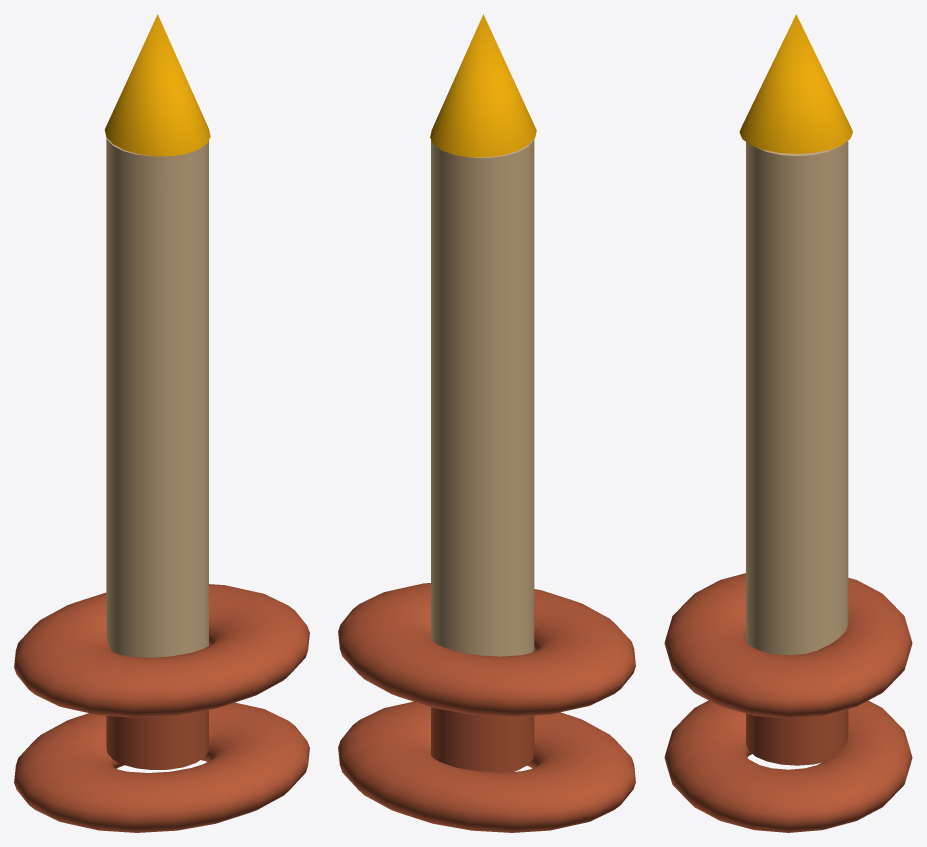
The model's file is Candle.fbx.
The picture shows the model from 3 angles, left to right: view 1: azimuth 30°, elevation 25°; view 2: azimuth 150°, elevation 25°; view 3: azimuth 270°, elevation 25°; orthographic projection.
Visible parts, largest first — view 1: candles; view 2: candles; view 3: candles.
Part boxes in pixels (bbox=[...]): candles: bbox=[14, 14, 309, 832]; candles: bbox=[338, 14, 635, 832]; candles: bbox=[664, 14, 912, 832].
Bounding box in the file's own units: 6.05 × 16.5 × 4.84.
